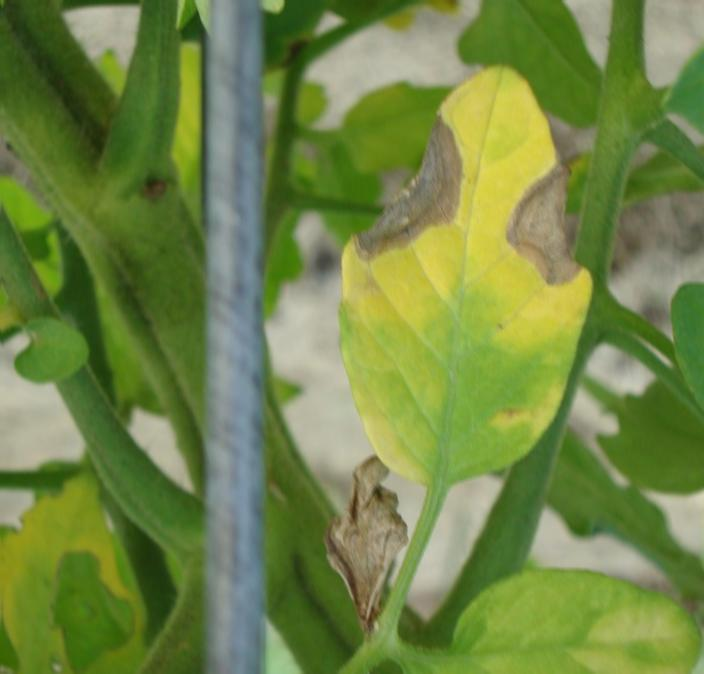Tomato Early blight leaf: (330, 67, 580, 495)
